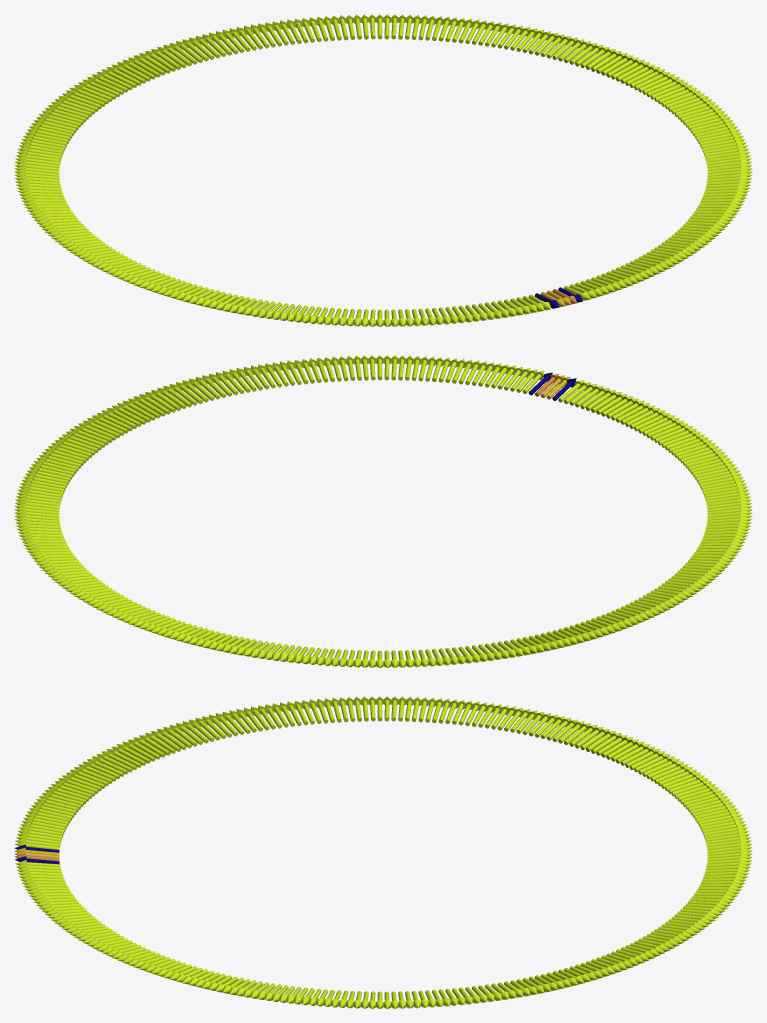
File: coil_2_forces.gltf
3 views of the same model, one above another, from view 1: azimuth 30°, elevation 25°; view 2: azimuth 150°, elevation 25°; view 3: azimuth 270°, elevation 25° (orthographic).
Parts seen in each view (by area): view 1: Renderer Node; view 2: Renderer Node; view 3: Renderer Node.
Part boxes in pixels (x1,y1,x2,y2): Renderer Node: (14, 14, 752, 326); Renderer Node: (14, 355, 752, 667); Renderer Node: (14, 696, 752, 1008).
Size of the model in its own units: 0.6835 by 0.0096 by 0.6835.
Materials: 1 (1 with a texture image).
